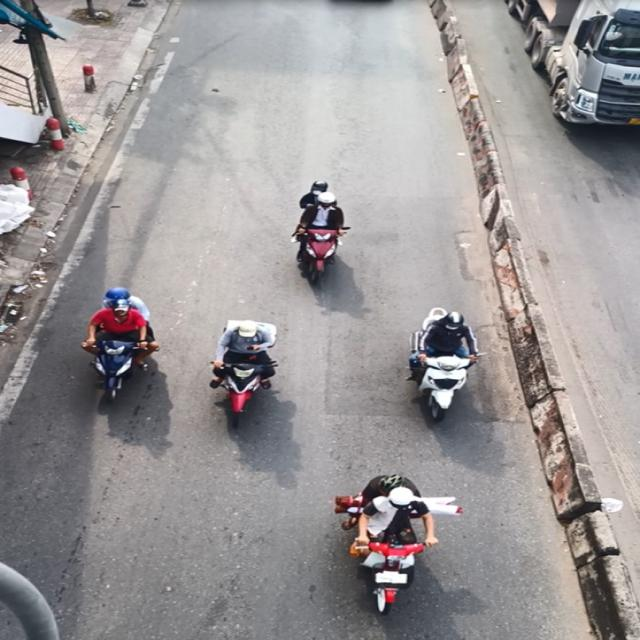motor: (336, 472, 468, 640), (56, 271, 161, 413), (400, 310, 481, 453), (193, 314, 279, 434), (272, 173, 351, 280)
